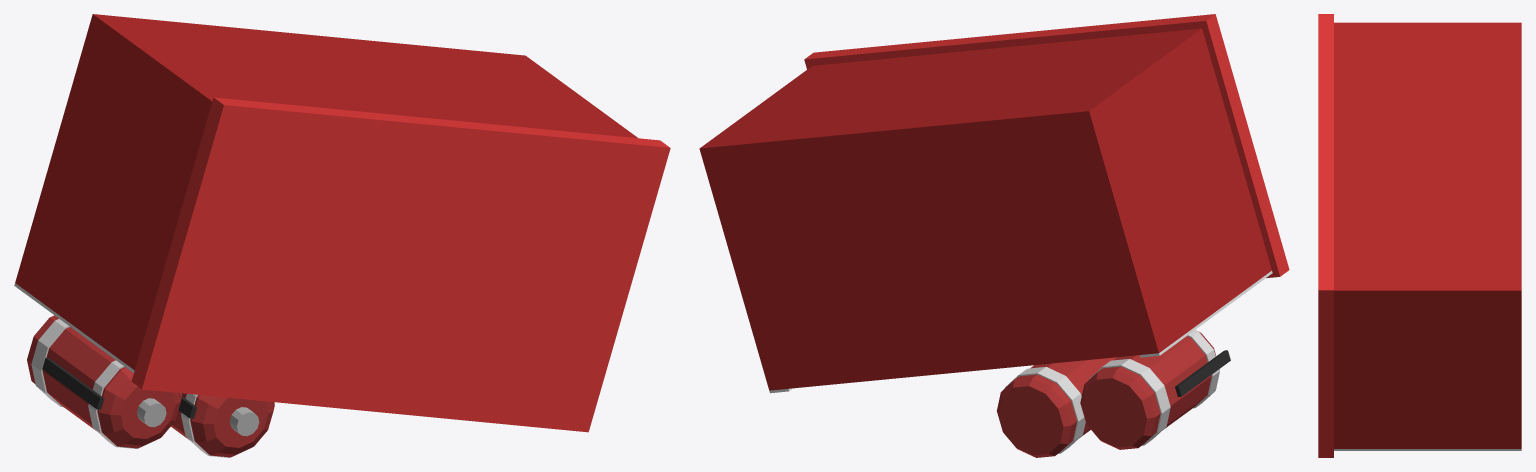
File: ce_handgren_firefoam_c.obj
3 views of the same model, side by side, from view 1: azimuth 30°, elevation 25°; view 2: azimuth 150°, elevation 25°; view 3: azimuth 270°, elevation 25° (orthographic). The views are drawn at different scales.
Visible parts, largest first — view 1: ce_handgren_firefoam_c_lid, ce_handgren_firefoam_c_crate, ce_handgren_firefoam_c_g0_body, ce_handgren_firefoam_c_g1_body, ce_handgren_firefoam_c_g0_band1, ce_handgren_firefoam_c_g0_spoon, ce_handgren_firefoam_c_g0_band0, ce_handgren_firefoam_c_g0_fuze, ce_handgren_firefoam_c_g1_fuze; view 2: ce_handgren_firefoam_c_crate, ce_handgren_firefoam_c_lid, ce_handgren_firefoam_c_g0_body, ce_handgren_firefoam_c_g1_body, ce_handgren_firefoam_c_g0_band1, ce_handgren_firefoam_c_g1_band1, ce_handgren_firefoam_c_g0_spoon, ce_handgren_firefoam_c_g0_band0; view 3: ce_handgren_firefoam_c_crate, ce_handgren_firefoam_c_lid, ce_handgren_firefoam_c_trim1.
Part boxes in pixels (box(x1,y1,x2,y2)): ce_handgren_firefoam_c_lid: box(131, 97, 670, 432); ce_handgren_firefoam_c_crate: box(15, 14, 637, 370); ce_handgren_firefoam_c_g0_body: box(27, 315, 181, 448); ce_handgren_firefoam_c_g1_body: box(171, 393, 274, 457); ce_handgren_firefoam_c_g0_band1: box(31, 319, 69, 407); ce_handgren_firefoam_c_g0_spoon: box(42, 358, 104, 409); ce_handgren_firefoam_c_g0_band0: box(88, 360, 181, 448); ce_handgren_firefoam_c_g0_fuze: box(137, 398, 166, 427); ce_handgren_firefoam_c_g1_fuze: box(229, 407, 259, 436); ce_handgren_firefoam_c_crate: box(699, 28, 1271, 390); ce_handgren_firefoam_c_lid: box(804, 14, 1289, 278); ce_handgren_firefoam_c_g0_body: box(1080, 330, 1219, 449); ce_handgren_firefoam_c_g1_body: box(997, 357, 1116, 457); ce_handgren_firefoam_c_g0_band1: box(1088, 359, 1170, 445); ce_handgren_firefoam_c_g1_band1: box(1005, 367, 1085, 453); ce_handgren_firefoam_c_g0_spoon: box(1175, 350, 1230, 396); ce_handgren_firefoam_c_g0_band0: box(1187, 330, 1219, 408); ce_handgren_firefoam_c_crate: box(1334, 22, 1521, 448); ce_handgren_firefoam_c_lid: box(1318, 14, 1333, 457); ce_handgren_firefoam_c_trim1: box(1334, 449, 1521, 450).
Bounding box in the file's own units: 0.5853 × 0.4403 × 0.2606.
